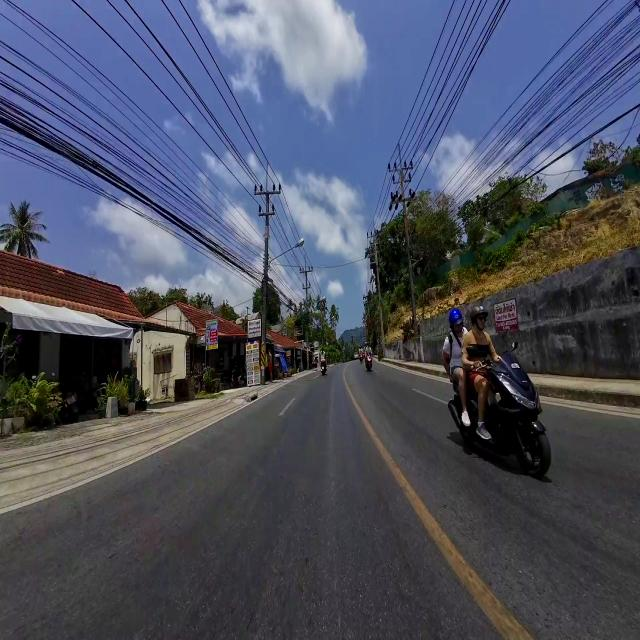motorcycle: (448, 343, 551, 477), (365, 354, 372, 371), (320, 360, 327, 375)
